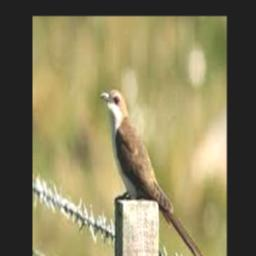Cuckoo: (100, 89, 207, 256)
